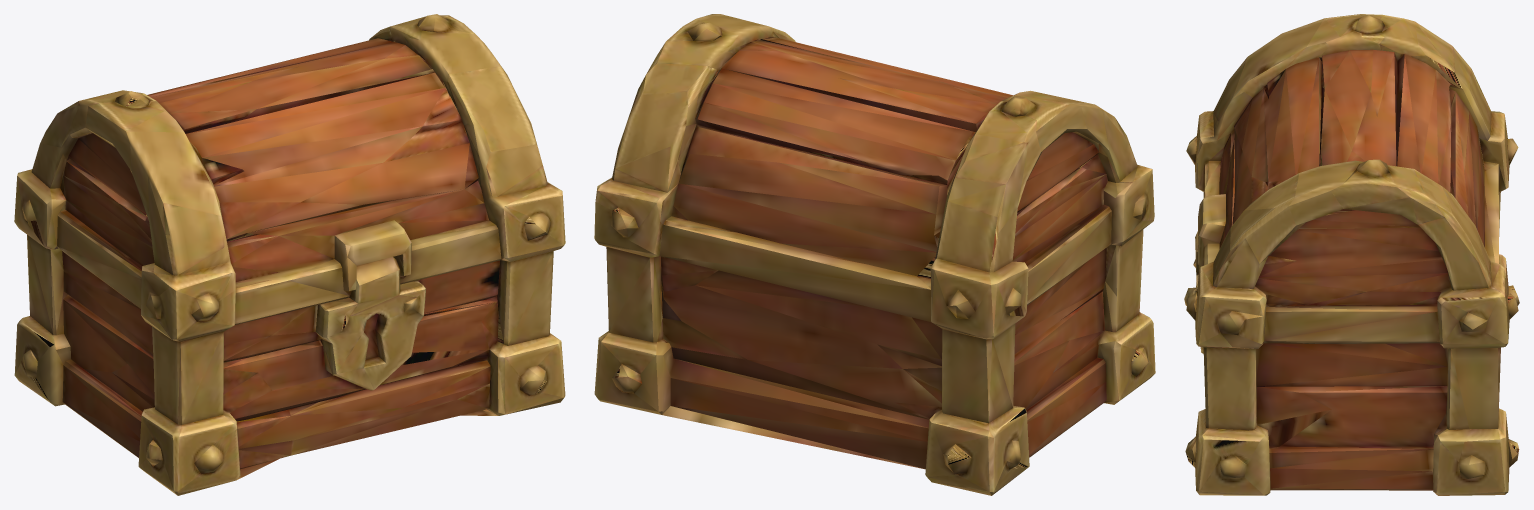
Rendered from chest.low.glb.
3 renders of one model, left to right at view 1: azimuth 30°, elevation 25°; view 2: azimuth 150°, elevation 25°; view 3: azimuth 270°, elevation 25°, orthographic. The views are drawn at different scales.
Visible parts, largest first — view 1: output_unwrapped; view 2: output_unwrapped; view 3: output_unwrapped.
Boxes of the visible parts, bbox=[...] form: output_unwrapped: bbox=[14, 14, 565, 495]; output_unwrapped: bbox=[594, 14, 1155, 495]; output_unwrapped: bbox=[1184, 14, 1519, 495].
Bounding box in the file's own units: 1.9 × 1.47 × 1.4.
1 material, 1 textured.
